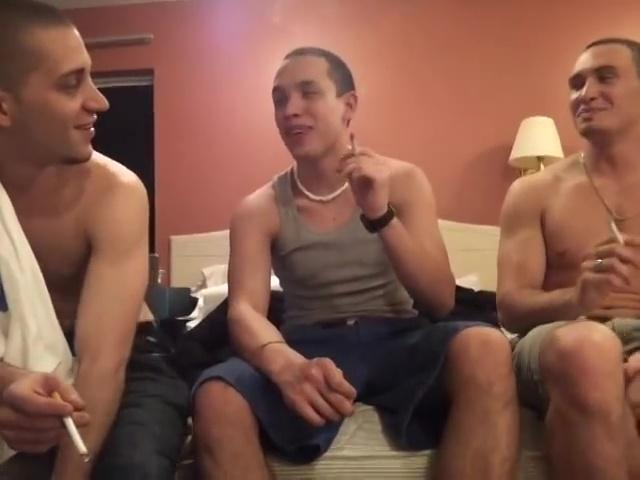cigarette: (61, 413, 92, 464), (605, 218, 625, 246), (347, 131, 358, 163)
